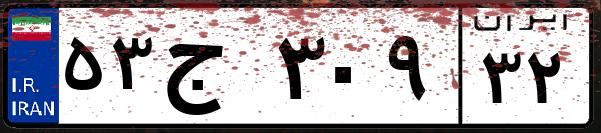0: (330, 28, 385, 110)
2: (525, 38, 570, 115)
3: (270, 28, 330, 110), (475, 38, 525, 113), (110, 28, 158, 98)
5: (57, 26, 110, 100)
9: (385, 28, 445, 110)
ج: (158, 20, 270, 120)
